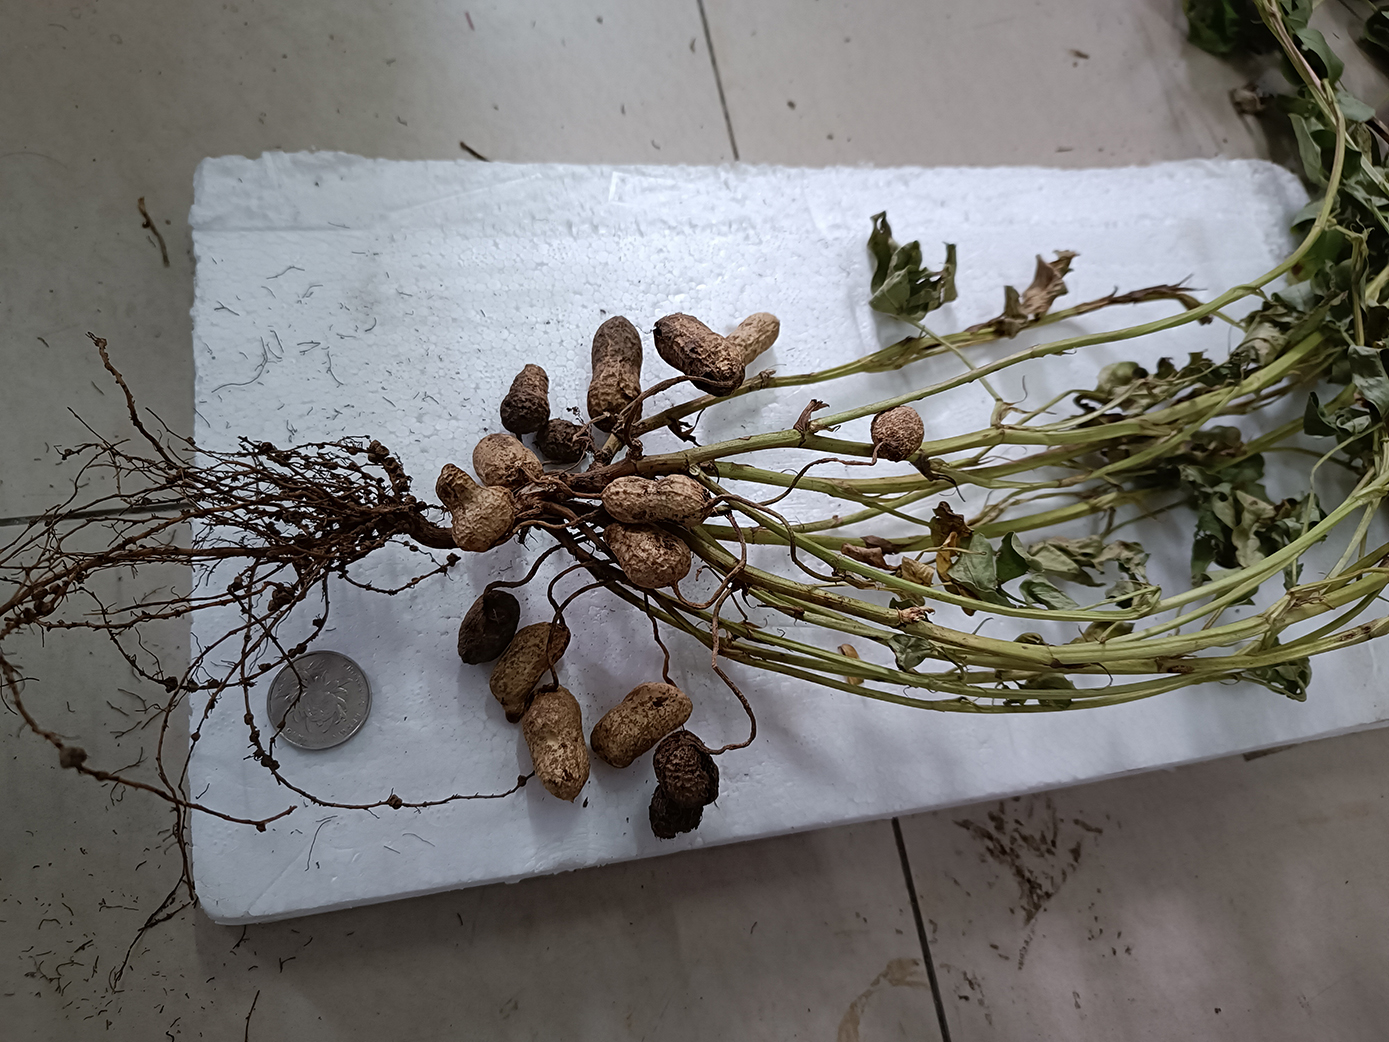h: (595, 683, 696, 769), (522, 686, 591, 803), (491, 621, 571, 716), (433, 464, 519, 549), (598, 473, 708, 533), (587, 316, 643, 435), (604, 524, 690, 588), (472, 432, 546, 486), (870, 405, 924, 461), (721, 311, 780, 359)
l: (647, 731, 719, 840), (655, 313, 745, 389), (456, 588, 516, 664), (502, 363, 548, 435), (535, 419, 587, 460)
